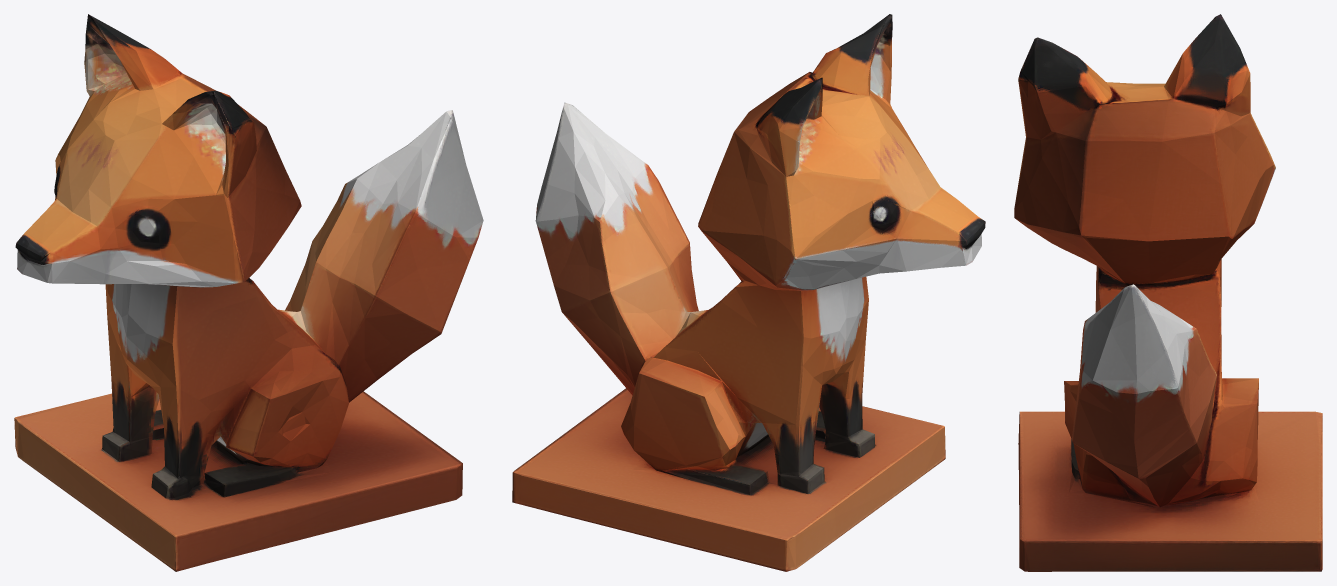
File: model-pick-3.glb
3 views of the same model, side by side, from view 1: azimuth 30°, elevation 25°; view 2: azimuth 150°, elevation 25°; view 3: azimuth 270°, elevation 25° (orthographic). The views are drawn at different scales.
Parts seen in each view (by area): view 1: geometry_0; view 2: geometry_0; view 3: geometry_0.
Part boxes in pixels (<box>): geometry_0: <box>14,14,483,571</box>; geometry_0: <box>512,14,985,571</box>; geometry_0: <box>1014,14,1322,571</box>.
Bounding box in the file's own units: 0.5185 × 0.5171 × 0.329.
Materials: 1 (1 with a texture image).
